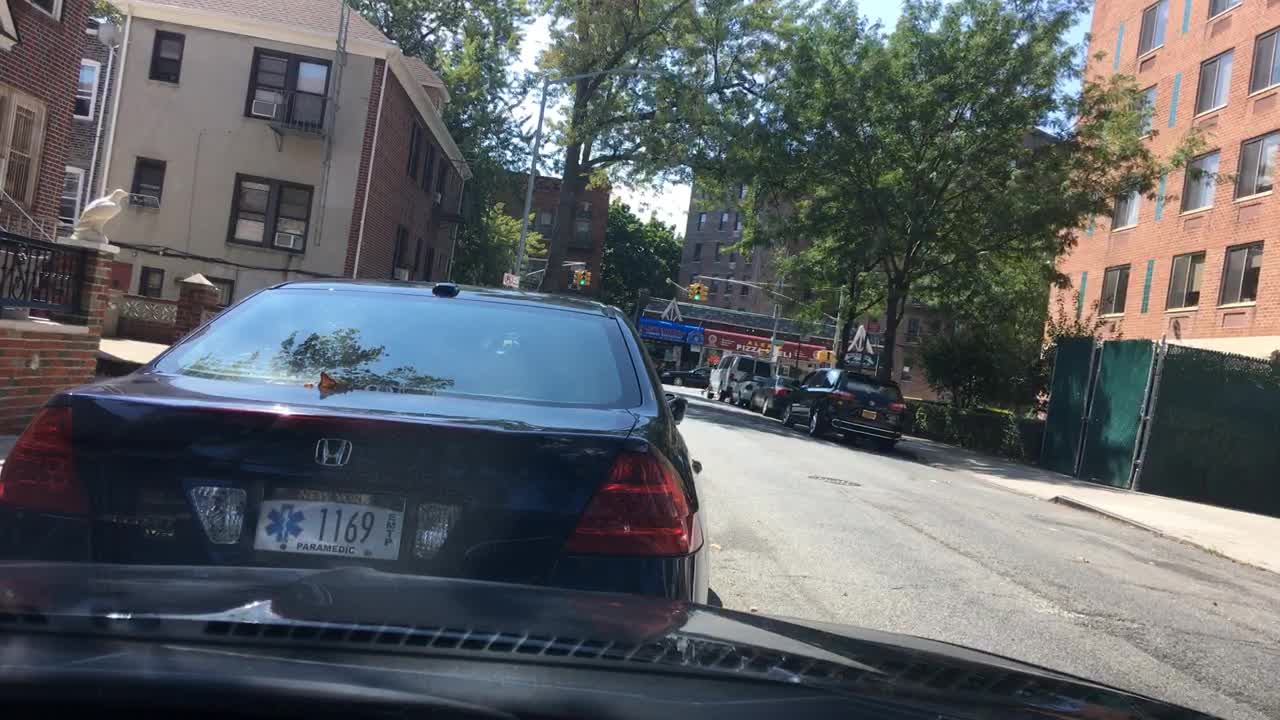car: (0, 277, 707, 606), (778, 365, 908, 455), (703, 350, 774, 403), (746, 371, 801, 416), (661, 364, 712, 388)
traffic light: (816, 348, 829, 364), (698, 283, 709, 301), (686, 281, 696, 299), (571, 267, 580, 286), (693, 281, 701, 301), (577, 269, 585, 285), (585, 269, 591, 285)
traffic sign: (500, 270, 521, 286), (771, 303, 782, 320), (771, 336, 786, 345)
